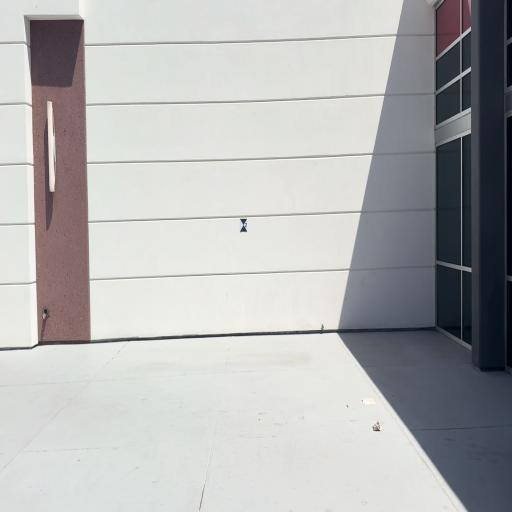target7: (240, 218, 248, 232)
